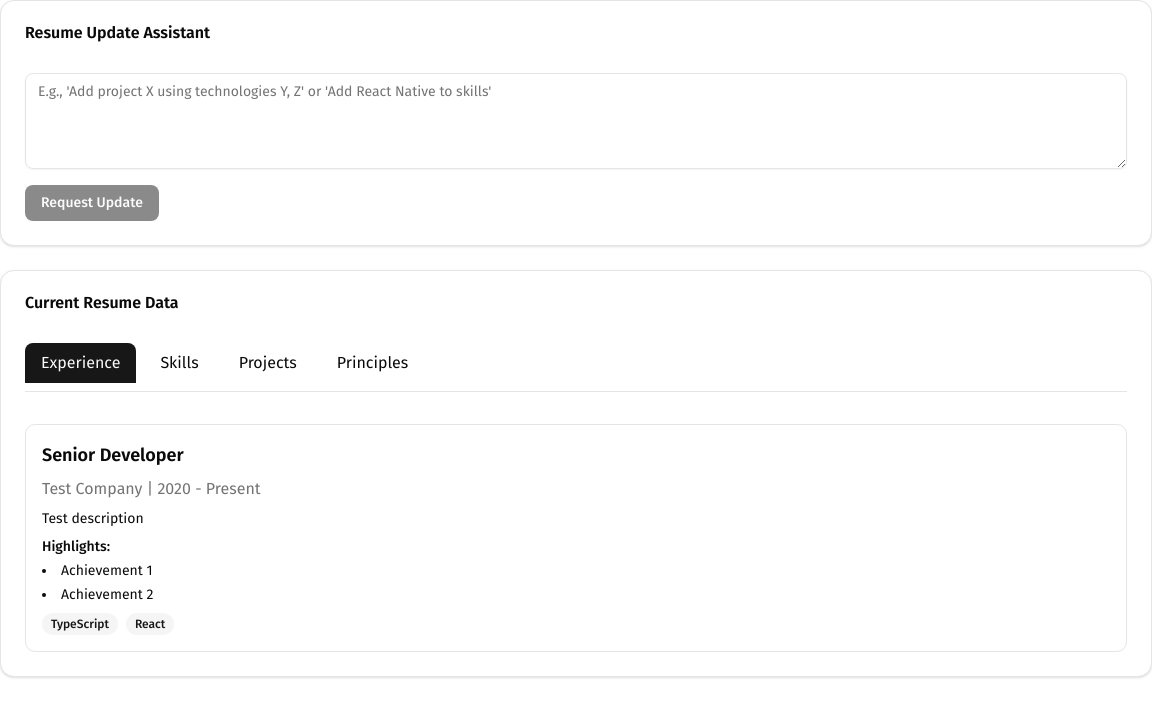
ResumeUpdater Component - T017 › Core Functionality › should show loading state during API request
In the text box with placeholder "Add project X using technologies Y, Z": {"x": 576, "y": 121} [25,73,1127,169], type "Add Python"
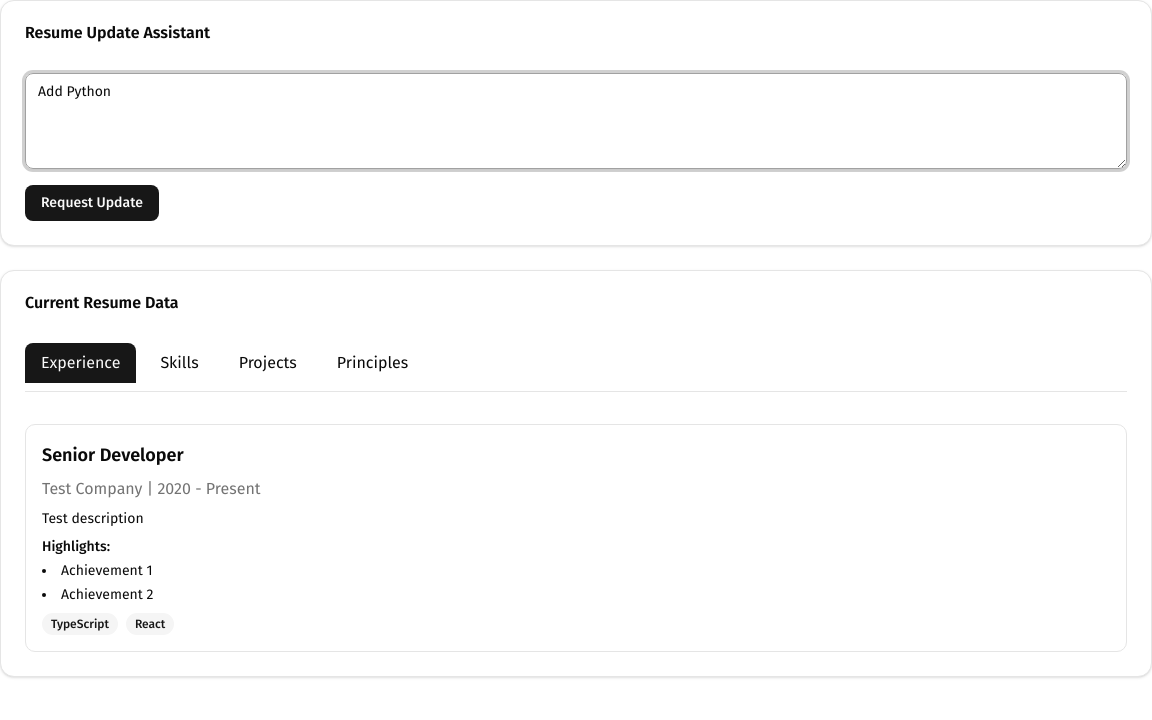
Click the button "Request Update": {"x": 92, "y": 203} [25,185,159,221]
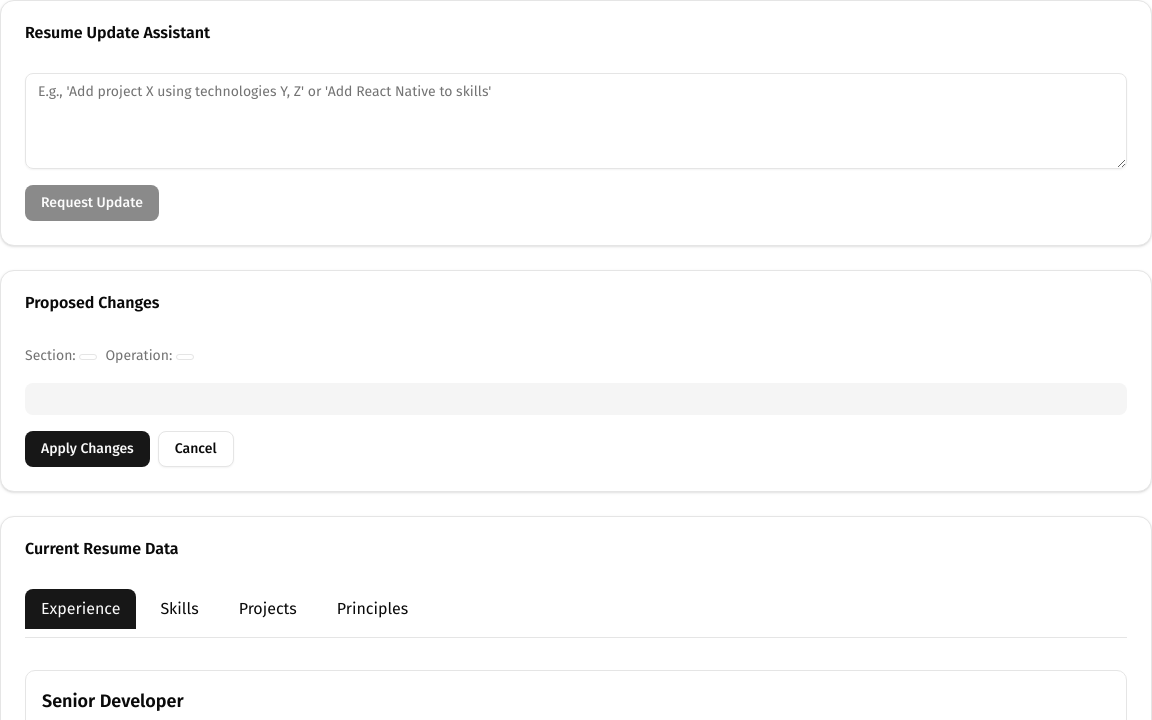
expect the button "Request Update" is disabled: met, box [25,185,159,221]
